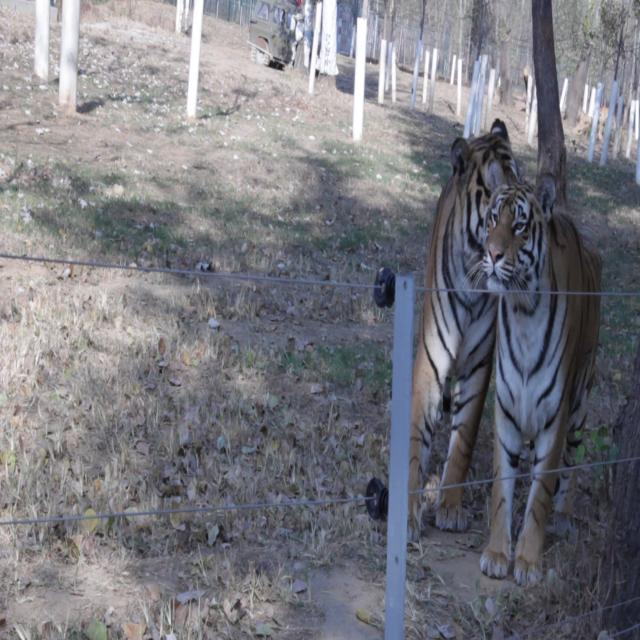Tiger: (480, 152, 605, 594), (398, 103, 518, 549)
